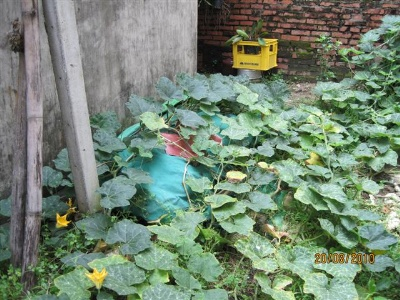bowl: (237, 70, 263, 81)
box: (232, 37, 278, 70)
